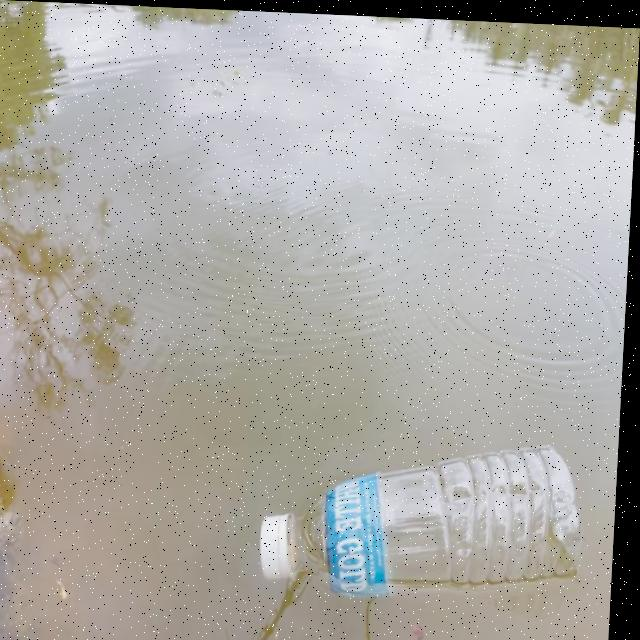waterbottle: (246, 420, 603, 613)
